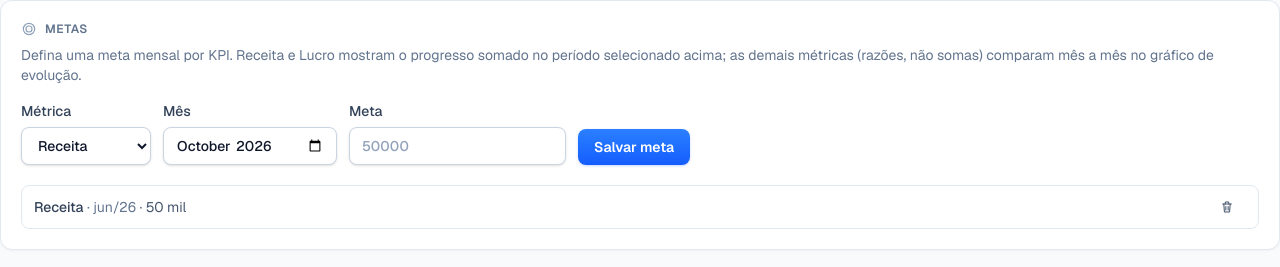
Test: TargetsPanel › remove uma meta ao clicar no botão de remover
Expected: the text "Receita" is shown, [34,198,84,216]
Click the button named "Remover meta" at (1227, 207), box [1208,194,1246,220]
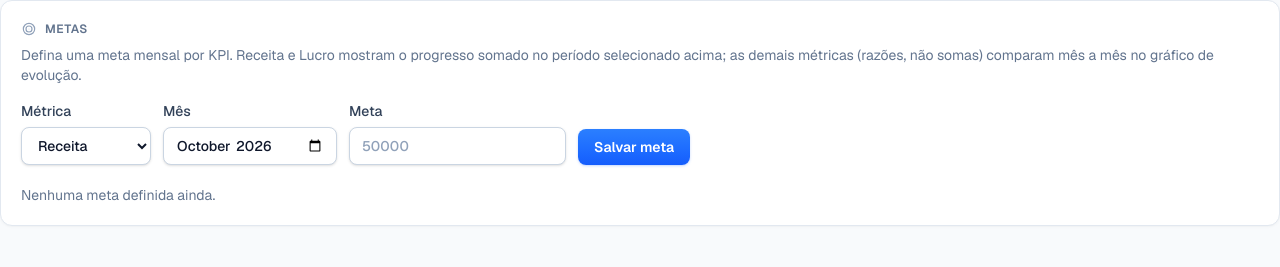
Expected: the text "Nenhuma meta definida ainda." is shown, [21,186,215,204]
